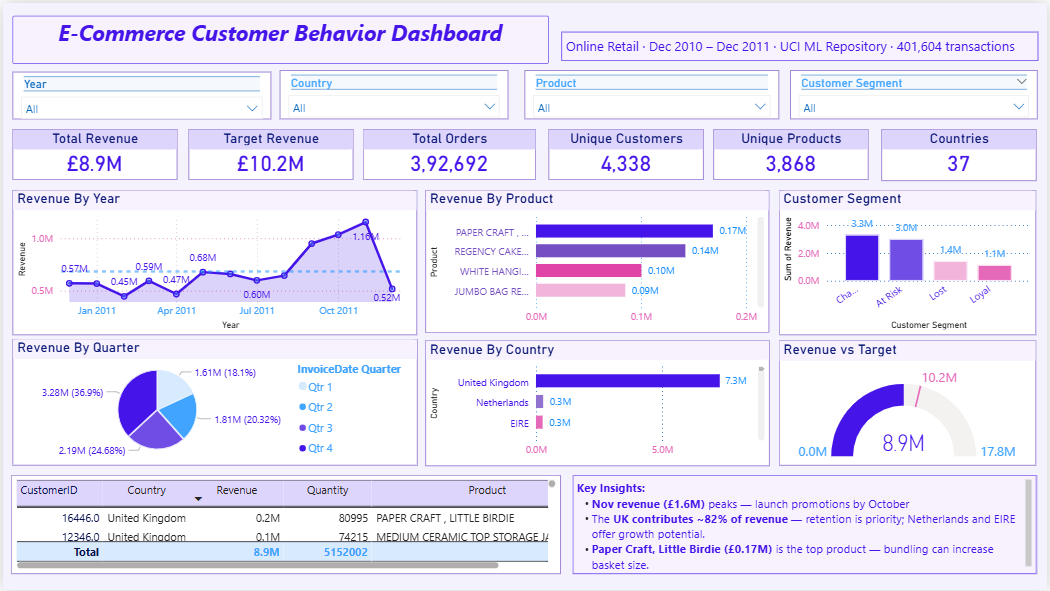

The page's visual inventory and layout, read from the dashboard file:
{"tool":"powerbi","page":{"name":"E-Commerce Customer Behavior Dashboard","canvas":[1280,720],"ordinal":0},"visuals":[{"type":"textbox","box":[11.8,15.7,656.9,58.8],"z":0},{"type":"card","title":"Total Revenue","fields":{"Values":["Sum(Online Retail.Revenue)"]},"box":[11.7,155,201.7,61.7],"z":1000},{"type":"card","title":"Total Orders","fields":{"Values":["CountNonNull(Online Retail.InvoiceNo)"]},"box":[441.7,155,211.7,61.7],"z":2000},{"type":"card","title":"Unique Customers","fields":{"Values":["Count(Online Retail.CustomerID)"]},"box":[668.3,155,190,61.7],"z":3000},{"type":"card","title":"Unique Products ","fields":{"Values":["Count(Online Retail.Description)"]},"box":[870,155,190,61.7],"z":4000},{"type":"card","title":"Countries","fields":{"Values":["Count(Online Retail.Country)"]},"box":[1076.7,155,190,63.3],"z":5000},{"type":"lineChart","title":"Revenue By Year","fields":{"Category":["Online Retail.InvoiceDate.Variation.Date Hierarchy.Year","Online Retail.InvoiceDate.Variation.Date Hierarchy.Month"],"Y":["Sum(Online Retail.Revenue)"]},"box":[12,228.9,495.6,177.2],"z":6000},{"type":"barChart","title":"Revenue By Product","fields":{"Category":["Online Retail.Description"],"Y":["Sum(Online Retail.Revenue)"]},"box":[517.9,228.6,421.4,175],"z":7000},{"type":"pieChart","title":"Revenue By Quarter  ","fields":{"Category":["Online Retail.InvoiceDate.Variation.Date Hierarchy.Quarter"],"Y":["Sum(Online Retail.Revenue)"]},"box":[12.1,412.1,496.6,155.2],"z":8000},{"type":"columnChart","title":"Customer Segment","fields":{"Category":["Online Retail.CustomerSegment"],"Y":["Sum(Online Retail.Revenue)"]},"box":[951.6,228.9,314.9,177.2],"z":9000},{"type":"clusteredBarChart","title":"Revenue By Country","fields":{"Category":["Online Retail.Country"],"Y":["Sum(Online Retail.Revenue)"]},"box":[518,413,422,154],"z":10000},{"type":"gauge","title":"Revenue vs Target","fields":{"Y":["Sum(Online Retail.Revenue)"],"TargetValue":["Online Retail.TargetRevenue"]},"box":[951.6,413,314.9,153.1],"z":11000},{"type":"slicer","fields":{"Values":["Online Retail.InvoiceDate.Variation.Date Hierarchy.Year"]},"box":[11.7,85,316.7,58.3],"z":12000},{"type":"slicer","fields":{"Values":["Online Retail.Country"]},"box":[340,81.7,280,60],"z":13000},{"type":"slicer","fields":{"Values":["Online Retail.CustomerSegment"]},"box":[965,81.7,303.3,60],"z":14000},{"type":"tableEx","fields":{"Values":["Online Retail.CustomerID","Online Retail.Country","Sum(Online Retail.Revenue)","Sum(Online Retail.Quantity)","Online Retail.Description"]},"box":[9.5,578.6,673.8,121.4],"z":15000},{"type":"textbox","box":[697.6,578.6,569,121.4],"z":16000},{"type":"slicer","fields":{"Values":["Online Retail.Description"]},"box":[640,81.7,311.7,60],"z":17000},{"type":"textbox","box":[684.4,35.6,584.4,35.6],"z":18000},{"type":"card","title":"Target Revenue","fields":{"Values":["Online Retail.TargetRevenue"]},"box":[226.7,155,201.7,61.7],"z":19000}]}

Visuals, with their boxes in screenshot pixels (x1, y1, x2, y2), scaled from the page's 1280x720 canvas onto the 1050x591 screenshot:
textbox: bbox(10, 13, 549, 61)
"Total Revenue" card: bbox(10, 127, 175, 178)
"Total Orders" card: bbox(362, 127, 536, 178)
"Unique Customers" card: bbox(548, 127, 704, 178)
"Unique Products " card: bbox(714, 127, 870, 178)
"Countries" card: bbox(883, 127, 1039, 179)
"Revenue By Year" lineChart: bbox(10, 188, 416, 333)
"Revenue By Product" barChart: bbox(425, 188, 771, 331)
"Revenue By Quarter  " pieChart: bbox(10, 338, 417, 466)
"Customer Segment" columnChart: bbox(781, 188, 1039, 333)
"Revenue By Country" clusteredBarChart: bbox(425, 339, 771, 465)
"Revenue vs Target" gauge: bbox(781, 339, 1039, 465)
slicer - Online Retail.InvoiceDate.Variation.Date Hierarchy.Year: bbox(10, 70, 269, 118)
slicer - Online Retail.Country: bbox(279, 67, 509, 116)
slicer - Online Retail.CustomerSegment: bbox(792, 67, 1040, 116)
tableEx - Online Retail.CustomerID x Online Retail.Country: bbox(8, 475, 561, 575)
textbox: bbox(572, 475, 1039, 575)
slicer - Online Retail.Description: bbox(525, 67, 781, 116)
textbox: bbox(561, 29, 1041, 58)
"Target Revenue" card: bbox(186, 127, 351, 178)
